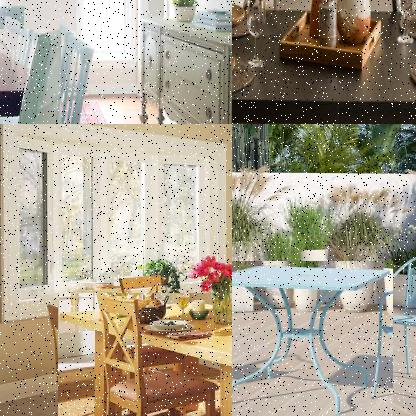table: (232, 261, 393, 415), (232, 0, 415, 123), (56, 293, 231, 415), (0, 29, 62, 123)
